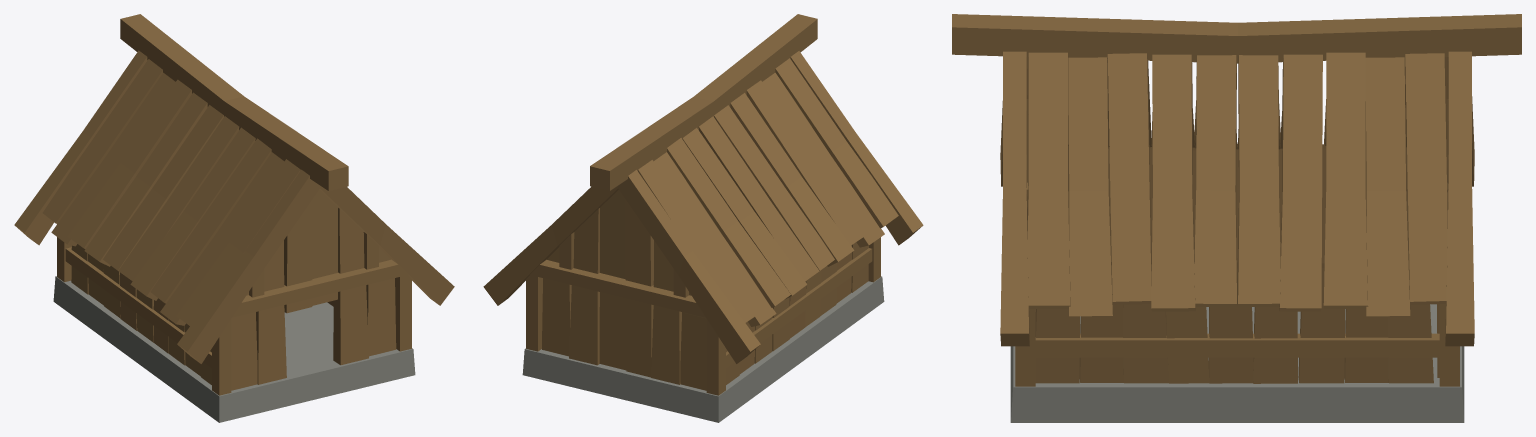
File: quaternius-ultimate-fantasy-rts-houses-firstage-1-level-3.glb
The picture shows the model from 3 angles, left to right: view 1: azimuth 30°, elevation 25°; view 2: azimuth 150°, elevation 25°; view 3: azimuth 270°, elevation 25°; orthographic projection. The views are drawn at different scales.
Parts seen in each view (by area): view 1: Houses_FirstAge_1_Level3; view 2: Houses_FirstAge_1_Level3; view 3: Houses_FirstAge_1_Level3.
Part boxes in pixels (box(x1,y1,x2,y2)): Houses_FirstAge_1_Level3: box(14, 14, 454, 422); Houses_FirstAge_1_Level3: box(483, 14, 923, 422); Houses_FirstAge_1_Level3: box(952, 14, 1521, 422).
Bounding box in the file's own units: 0.8693 × 0.7645 × 1.17.
